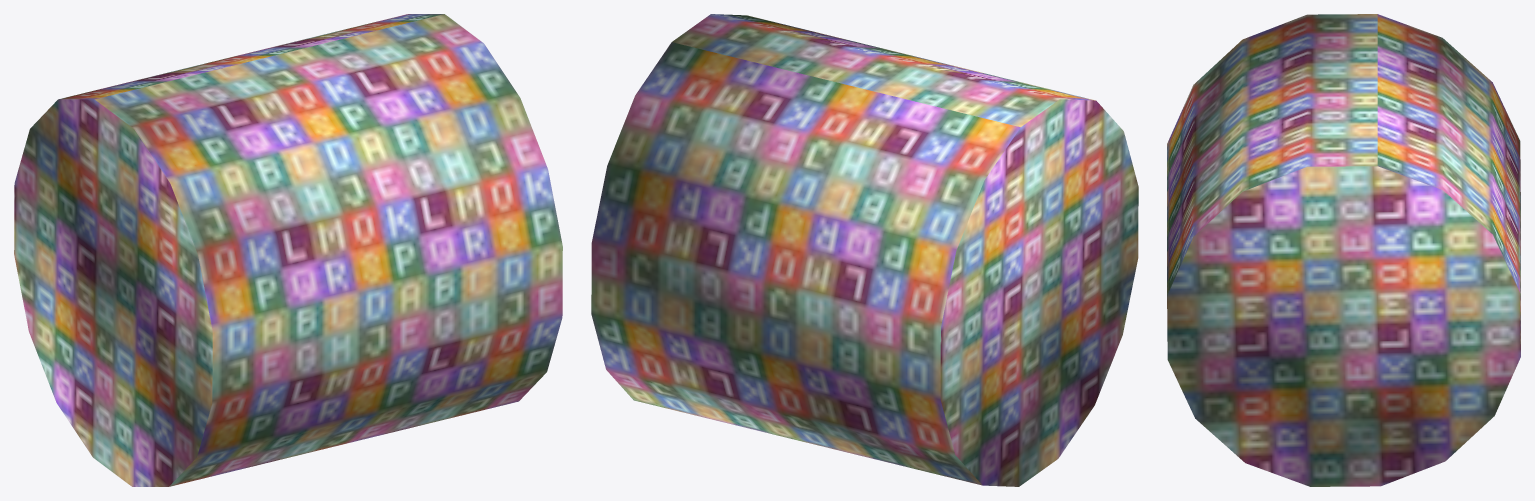
The model's file is cylSimpleReoriented.obj.
3 views of the same model, side by side, from view 1: azimuth 30°, elevation 25°; view 2: azimuth 150°, elevation 25°; view 3: azimuth 270°, elevation 25° (orthographic). The views are drawn at different scales.
Parts seen in each view (by area): view 1: Cylinder1; view 2: Cylinder1; view 3: Cylinder1.
Boxes of the visible parts, x1=… form: Cylinder1: x1=14, y1=14, x2=562, y2=486; Cylinder1: x1=591, y1=14, x2=1138, y2=486; Cylinder1: x1=1167, y1=14, x2=1520, y2=486.
Bounding box in the file's own units: 2 × 1.97 × 1.97.
Materials: 1 (1 with a texture image).
